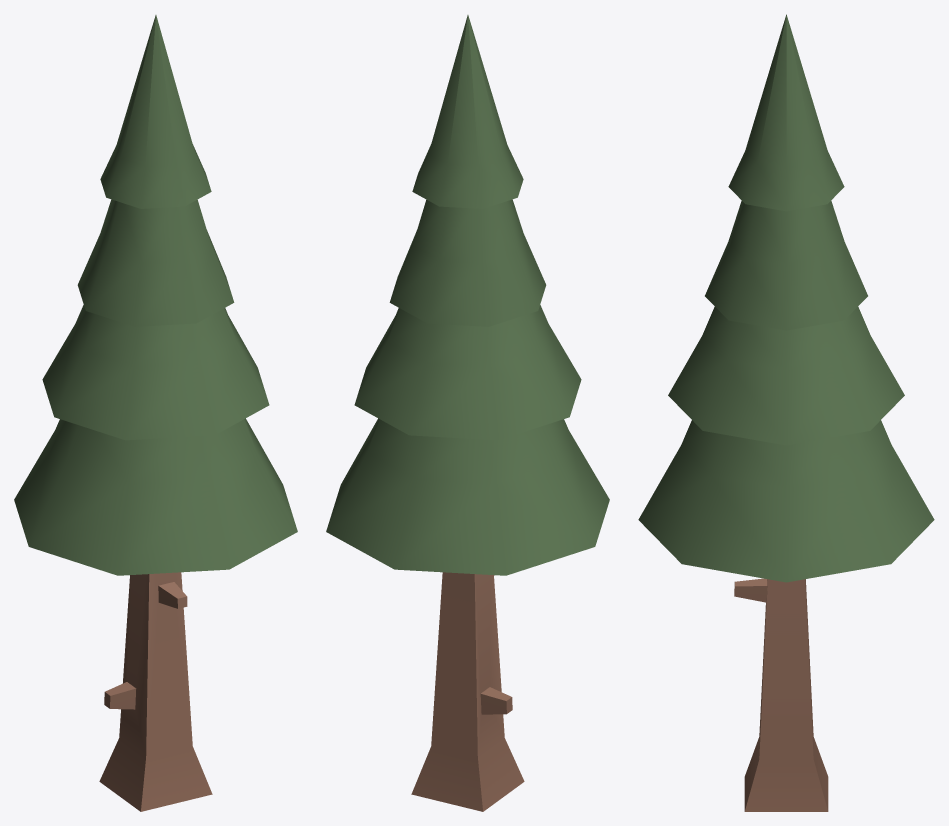
Rendered from pine.glb.
The picture shows the model from 3 angles, left to right: view 1: azimuth 30°, elevation 25°; view 2: azimuth 150°, elevation 25°; view 3: azimuth 270°, elevation 25°; orthographic projection.
Visible parts, largest first — view 1: tree-high.001; view 2: tree-high.001; view 3: tree-high.001.
Part boxes in pixels (x1=…): tree-high.001: x1=14, y1=15, x2=297, y2=811; tree-high.001: x1=326, y1=15, x2=609, y2=811; tree-high.001: x1=638, y1=14, x2=934, y2=811.
Bounding box in the file's own units: 0.7673 × 2.23 × 0.7673.
